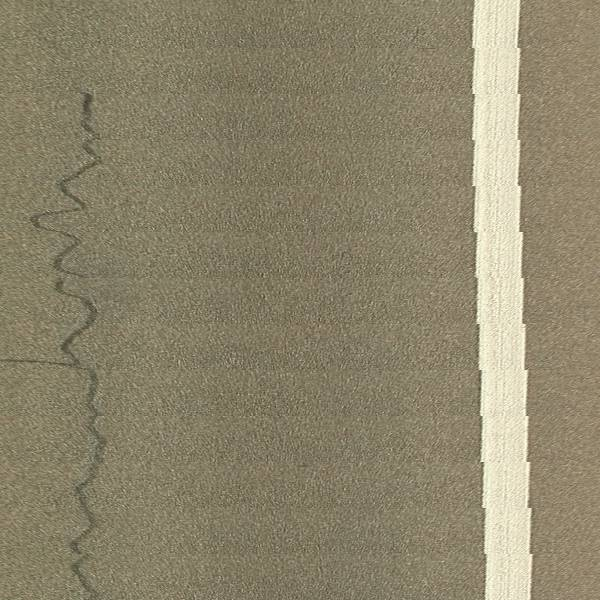road_damage: (30, 90, 111, 599)
